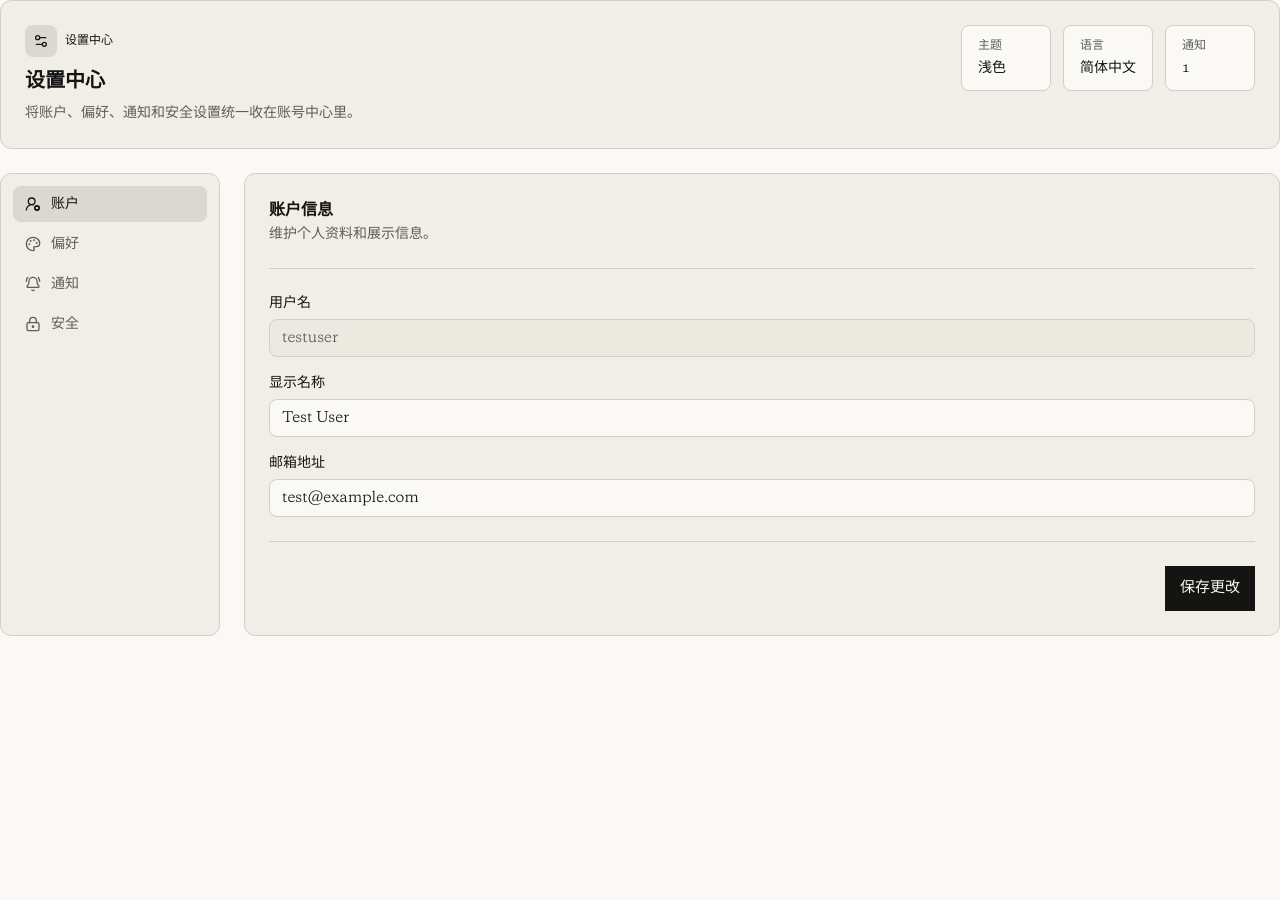
Test: Settings › loads notifications from localStorage on mount
Click the button "通知" at {"x": 110, "y": 284}, box [13,266,207,302]
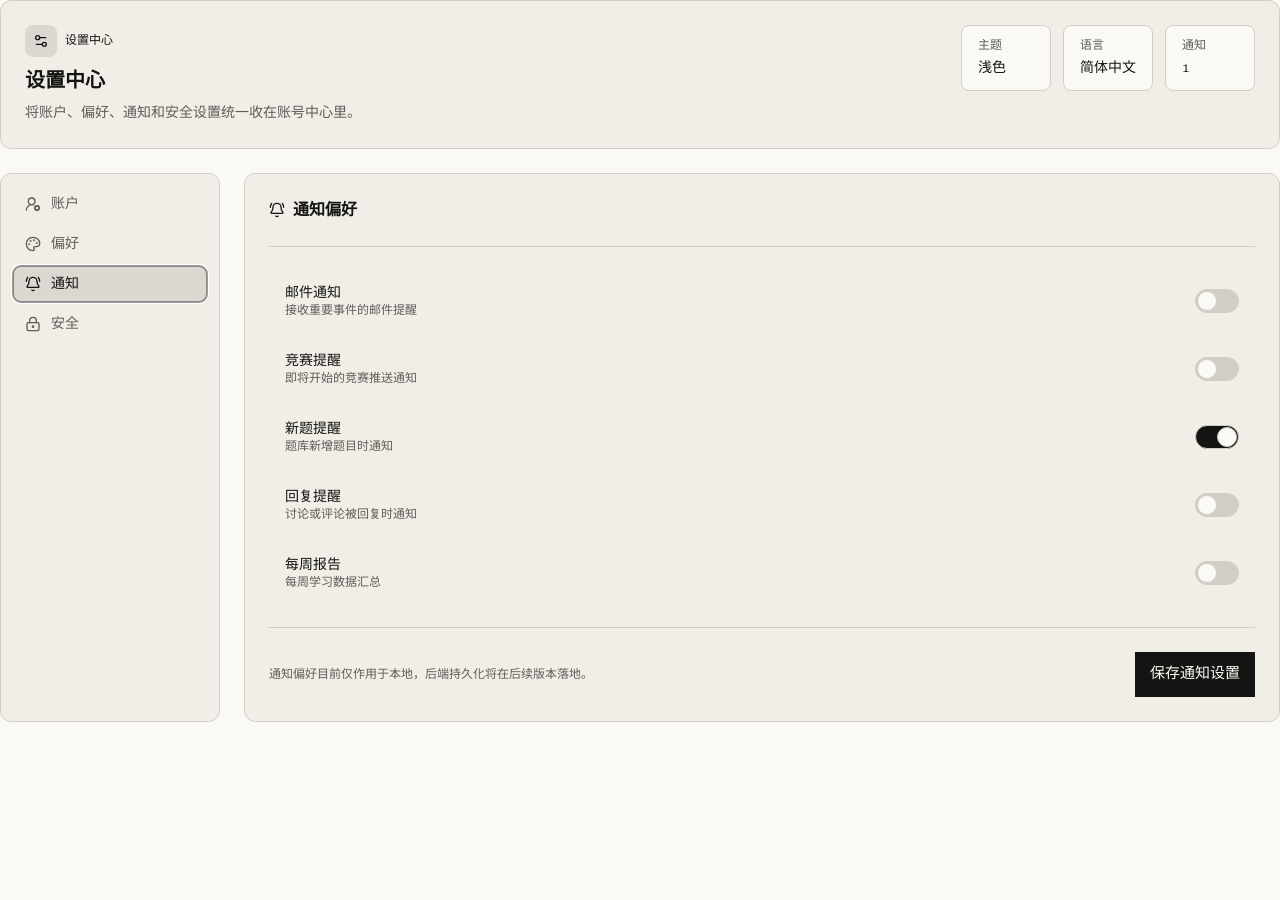
Expected: the text "1" is shown, [1182,60,1189,76]
Now the heading "通知偏好" is shown, box [293,198,357,222]
